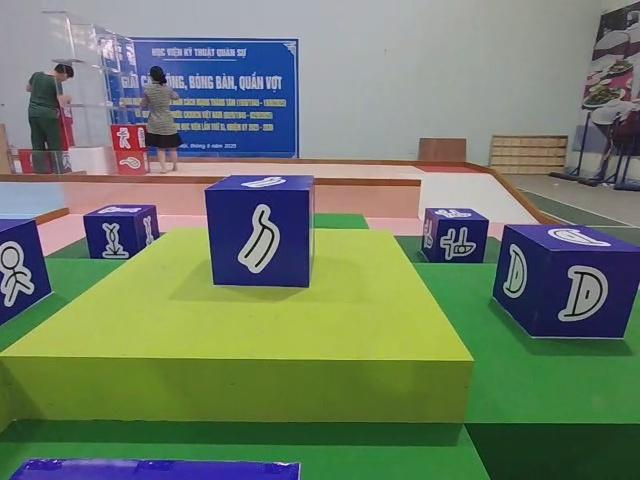R2 Real Blue: (493, 224, 639, 341), (207, 174, 318, 289), (0, 220, 52, 338), (85, 203, 162, 260), (418, 207, 487, 263)
